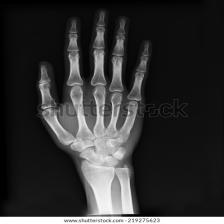fracture-dislocation: (25, 0, 158, 217)
